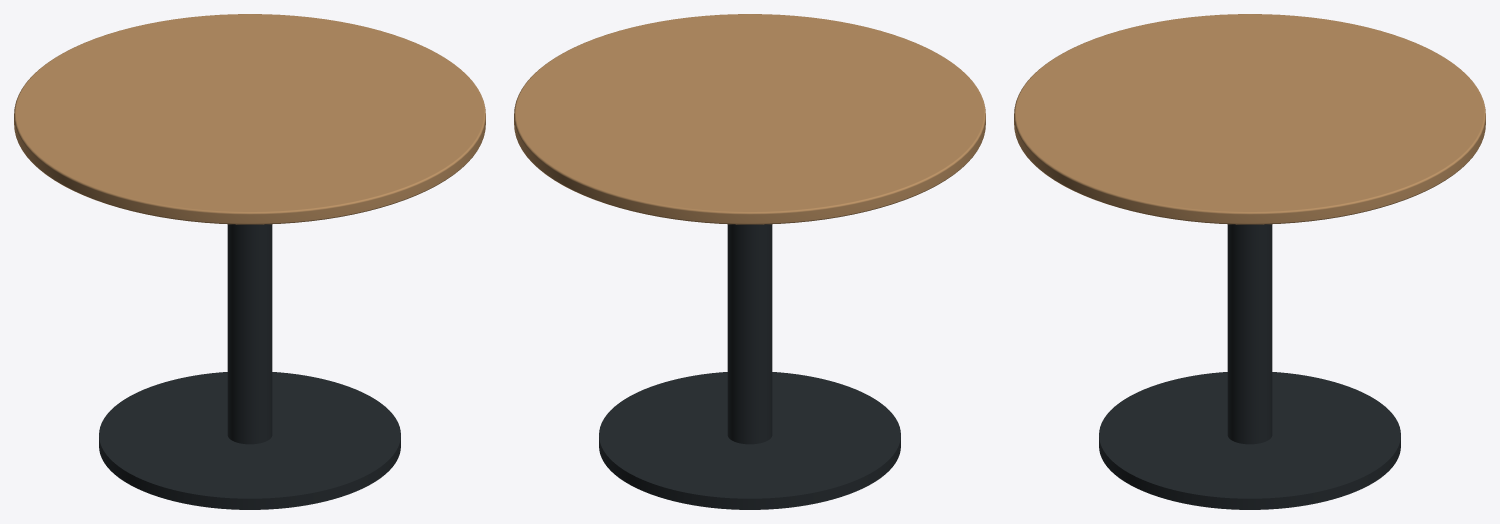
The model's file is meetingTable-1.glb.
3 renders of one model, left to right at view 1: azimuth 30°, elevation 25°; view 2: azimuth 150°, elevation 25°; view 3: azimuth 270°, elevation 25°, orthographic.
Visible parts, largest first — view 1: meetingTable:1:archviz; view 2: meetingTable:1:archviz; view 3: meetingTable:1:archviz.
Part boxes in pixels (<box>): meetingTable:1:archviz: <box>14,14,485,509</box>; meetingTable:1:archviz: <box>514,14,985,509</box>; meetingTable:1:archviz: <box>1014,14,1485,509</box>.
Bounding box in the file's own units: 0.95 × 0.74 × 0.95.
